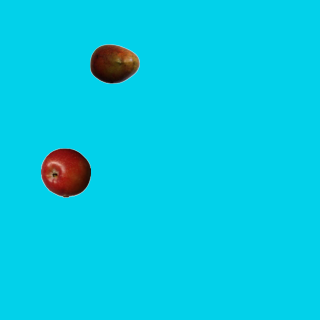Apple Braeburn: (40, 147, 90, 197)
Mango Red: (89, 38, 139, 88)
